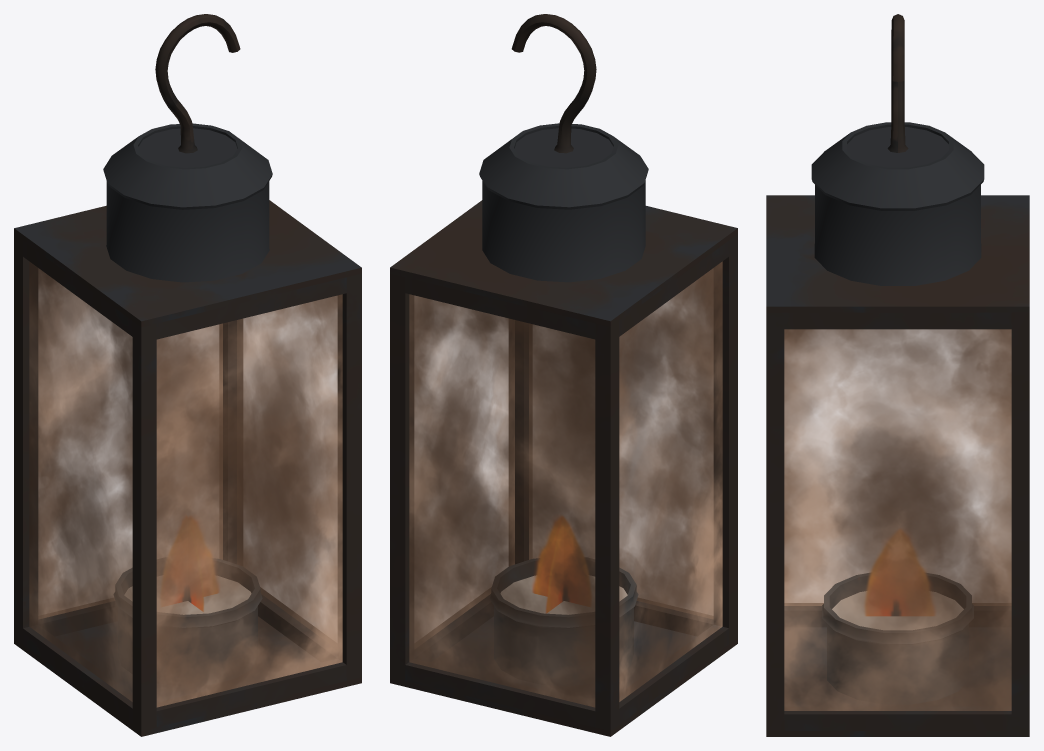
Rendered from old_low_poly_lantern.glb.
3 renders of one model, left to right at view 1: azimuth 30°, elevation 25°; view 2: azimuth 150°, elevation 25°; view 3: azimuth 270°, elevation 25°, orthographic. The views are drawn at different scales.
Visible parts, largest first — view 1: Lamparina_0; view 2: Lamparina_0; view 3: Lamparina_0.
Boxes of the visible parts, bbox=[...] form: Lamparina_0: bbox=[14, 14, 361, 736]; Lamparina_0: bbox=[390, 14, 737, 736]; Lamparina_0: bbox=[766, 14, 1029, 736].
Bounding box in the file's own units: 2 × 5.6 × 2.
1 material, 1 textured.
